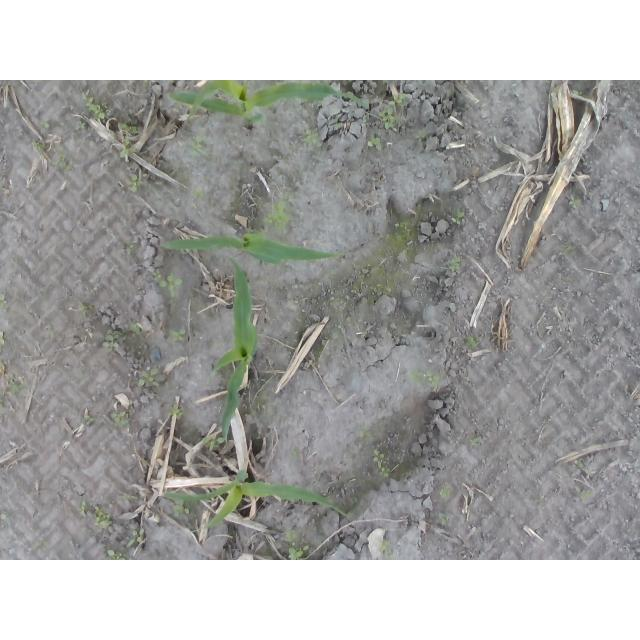Maize: (162, 470, 349, 530), (208, 256, 261, 444), (170, 81, 372, 128), (158, 229, 346, 264)
Weeds: (32, 139, 70, 170), (266, 196, 295, 229), (80, 502, 111, 530), (116, 125, 139, 160), (80, 93, 105, 119), (286, 529, 306, 560), (408, 371, 440, 389), (373, 451, 392, 478), (160, 274, 183, 295), (138, 370, 158, 392), (189, 138, 207, 160), (103, 331, 121, 349), (386, 94, 410, 107), (382, 110, 396, 131), (368, 135, 389, 149), (128, 530, 145, 547), (128, 170, 139, 193), (170, 329, 186, 344), (205, 436, 224, 448), (448, 256, 462, 272), (112, 411, 128, 425), (452, 207, 466, 222), (167, 405, 181, 419), (303, 132, 318, 144), (107, 552, 129, 560), (440, 486, 452, 500), (416, 131, 428, 143), (192, 188, 205, 199), (471, 437, 485, 447), (439, 514, 449, 526), (289, 448, 299, 460), (42, 119, 52, 129), (77, 119, 87, 129), (569, 198, 580, 207), (468, 338, 477, 349)
